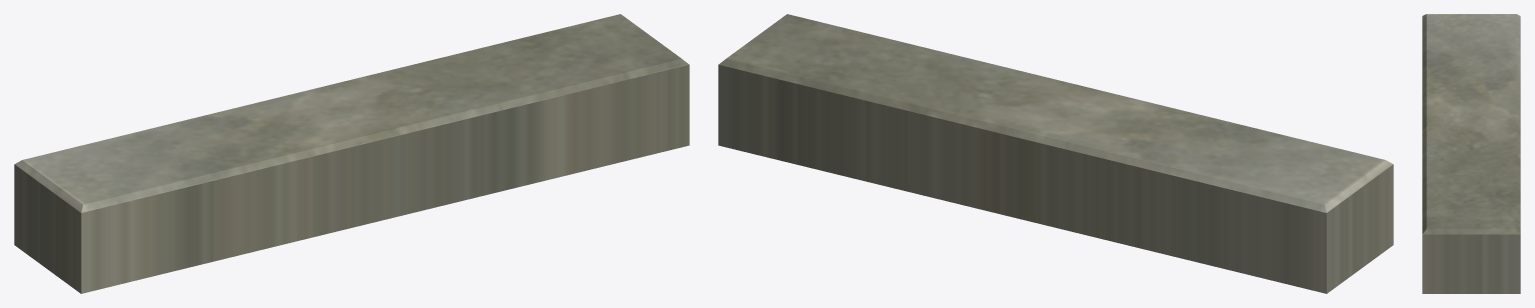
File: f03-s-stone-raised-border-showcase-north.glb
3 renders of one model, left to right at view 1: azimuth 30°, elevation 25°; view 2: azimuth 150°, elevation 25°; view 3: azimuth 270°, elevation 25°, orthographic. The views are drawn at different scales.
Visible parts, largest first — view 1: f03-s-stone-raised-border-showcase-north; view 2: f03-s-stone-raised-border-showcase-north; view 3: f03-s-stone-raised-border-showcase-north.
Boxes of the visible parts, <box> form: f03-s-stone-raised-border-showcase-north: <box>14,14,689,293</box>; f03-s-stone-raised-border-showcase-north: <box>718,14,1393,293</box>; f03-s-stone-raised-border-showcase-north: <box>1422,14,1520,293</box>.
Bounding box in the file's own units: 1 × 0.135 × 0.19.
1 material, 1 textured.
